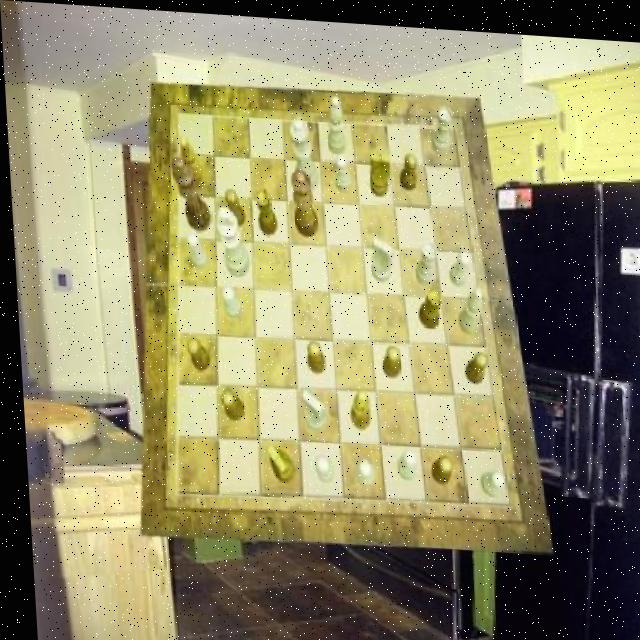bishop: (178, 134, 205, 189), (345, 385, 366, 426)
black-bishop: (170, 155, 210, 230)
black-king: (366, 147, 391, 193), (263, 440, 291, 479)
black-knight: (183, 335, 207, 370), (216, 387, 241, 420), (459, 345, 484, 378), (224, 187, 244, 224), (301, 337, 322, 372), (397, 147, 416, 185), (378, 341, 397, 375), (426, 451, 448, 479)
black-pawn: (290, 167, 318, 235)
black-queen: (415, 281, 442, 324), (253, 185, 276, 232)
black-rook: (453, 280, 482, 329), (324, 91, 344, 150)
white-bishop: (214, 205, 248, 275)
white-king: (367, 231, 392, 278), (297, 387, 322, 428)
white-knight: (446, 245, 470, 283), (184, 229, 206, 268), (391, 444, 412, 478), (219, 283, 240, 317), (332, 149, 350, 188), (476, 464, 501, 491), (310, 451, 330, 478), (351, 454, 370, 481)
white-pawn: (289, 113, 319, 189)
white-queen: (428, 101, 453, 150), (412, 237, 437, 282)
